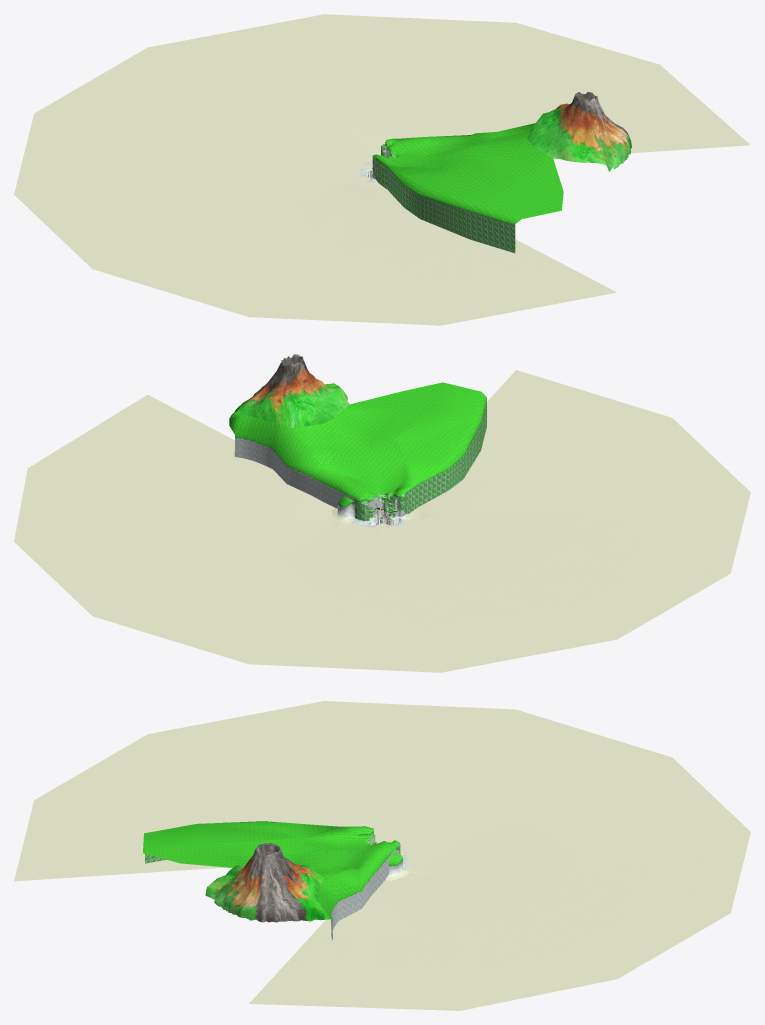
File: NokiBay.obj
3 views of the same model, one above another, from view 1: azimuth 30°, elevation 25°; view 2: azimuth 150°, elevation 25°; view 3: azimuth 270°, elevation 25° (orthographic).
Bounding box in the file's own units: 2167 × 292 × 2178.
Materials: 26 (26 with a texture image).
